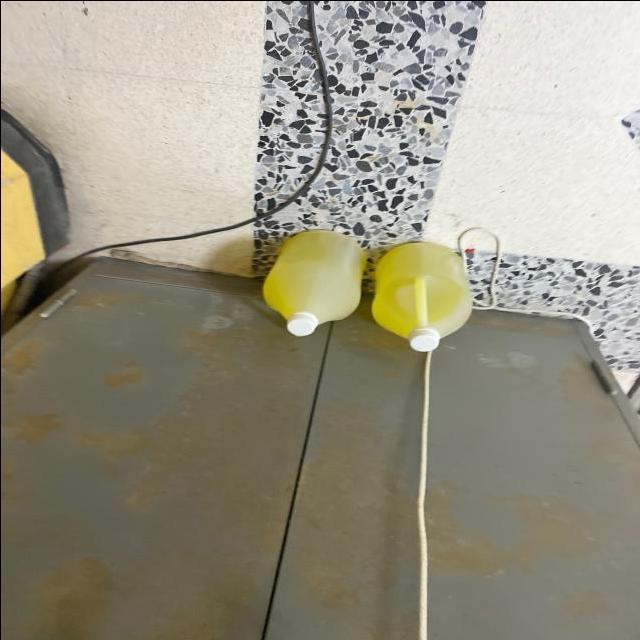HDPE Plastic: (374, 239, 476, 358), (265, 220, 364, 341)
